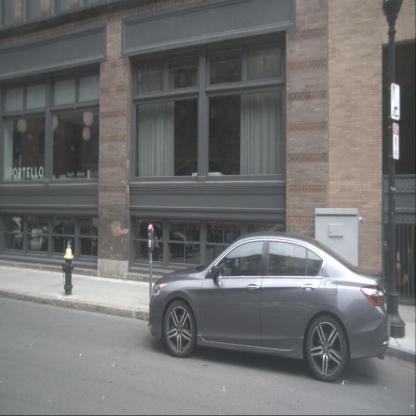cone: (394, 248, 405, 289)
